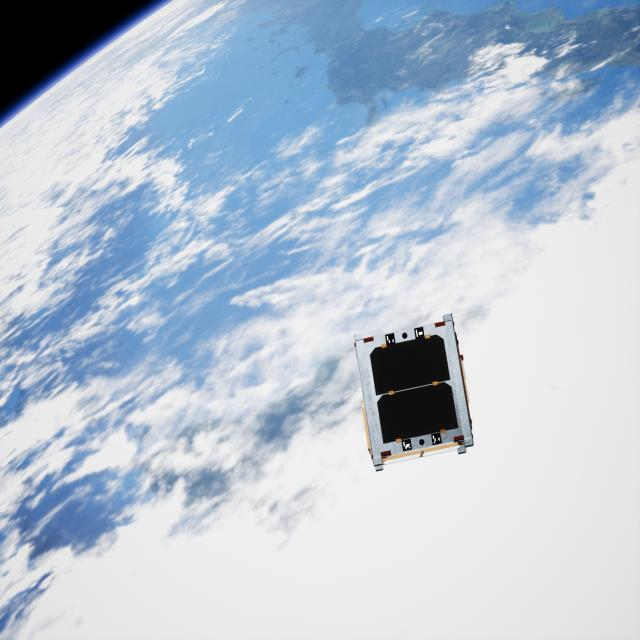medium_debris: (348, 316, 481, 475)
